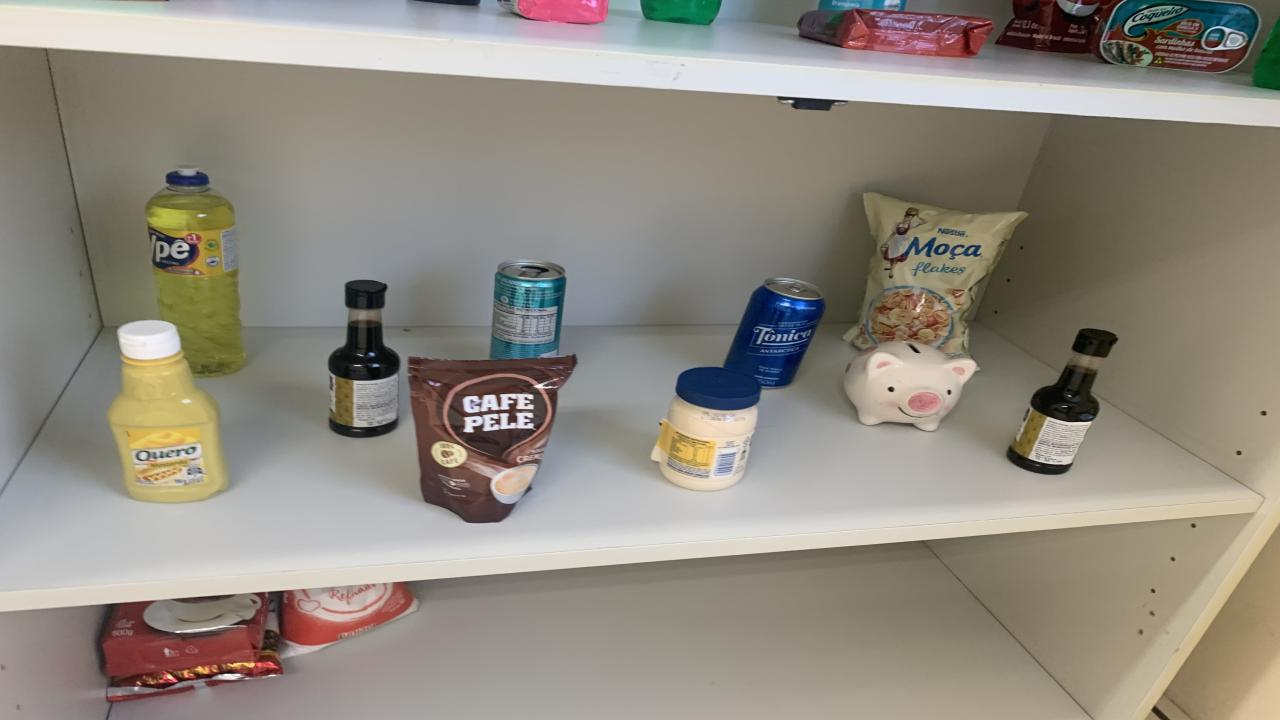Coffee-Pantry_Items: (408, 354, 578, 523)
Detergent-Cleanup_Items: (145, 169, 245, 377), (640, 0, 722, 24)
English_Sauce-Pantry_Items: (1008, 328, 1118, 474), (328, 279, 400, 437)
Flakes-Snacks: (842, 193, 1028, 358)
Guava-Snacks: (798, 9, 992, 58)
Mayonnaise-Pantry_Items: (650, 368, 760, 491)
Mustard-Pantry_Items: (108, 321, 230, 502)
Pig_Safe-Miscellaneous: (845, 341, 978, 431)
Soap-Cleanup_Items: (518, 0, 608, 24)
Tea-Drinks: (490, 261, 565, 358)
Tomato_Sauce-Pantry_Items: (995, 0, 1112, 52)
Tonic-Drinks: (725, 278, 825, 388)
Tuna_Can-Pantry_Items: (1090, 0, 1260, 73)
